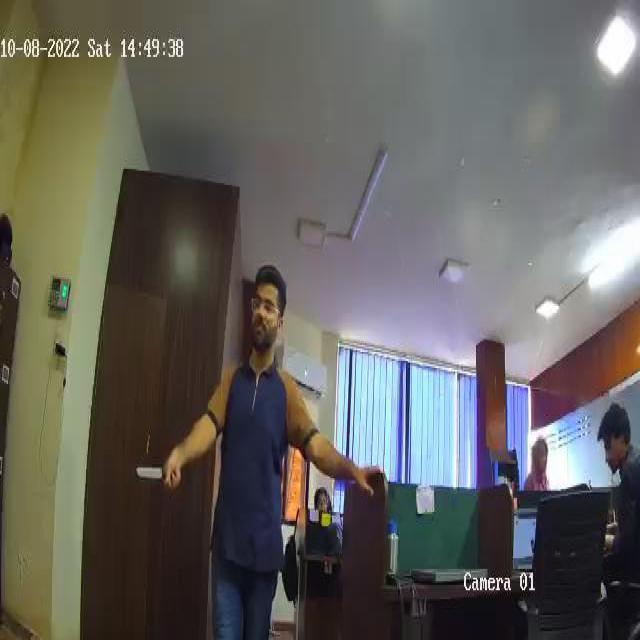faca: (130, 450, 198, 496)
